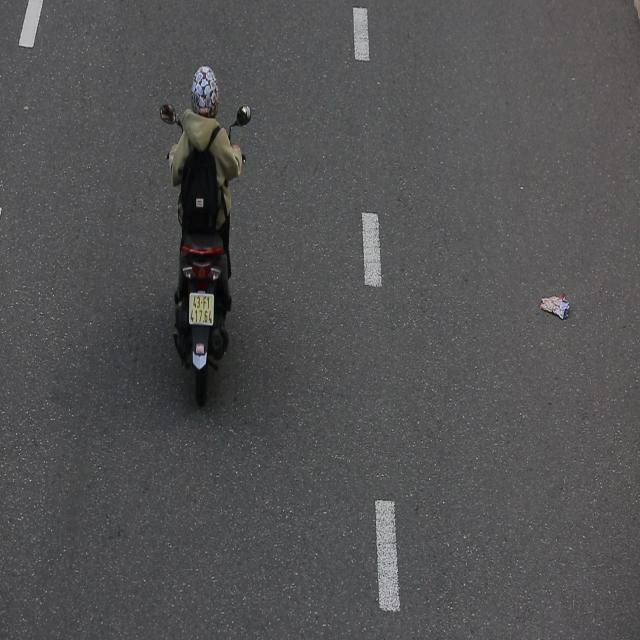motorbike: (153, 56, 254, 448)
